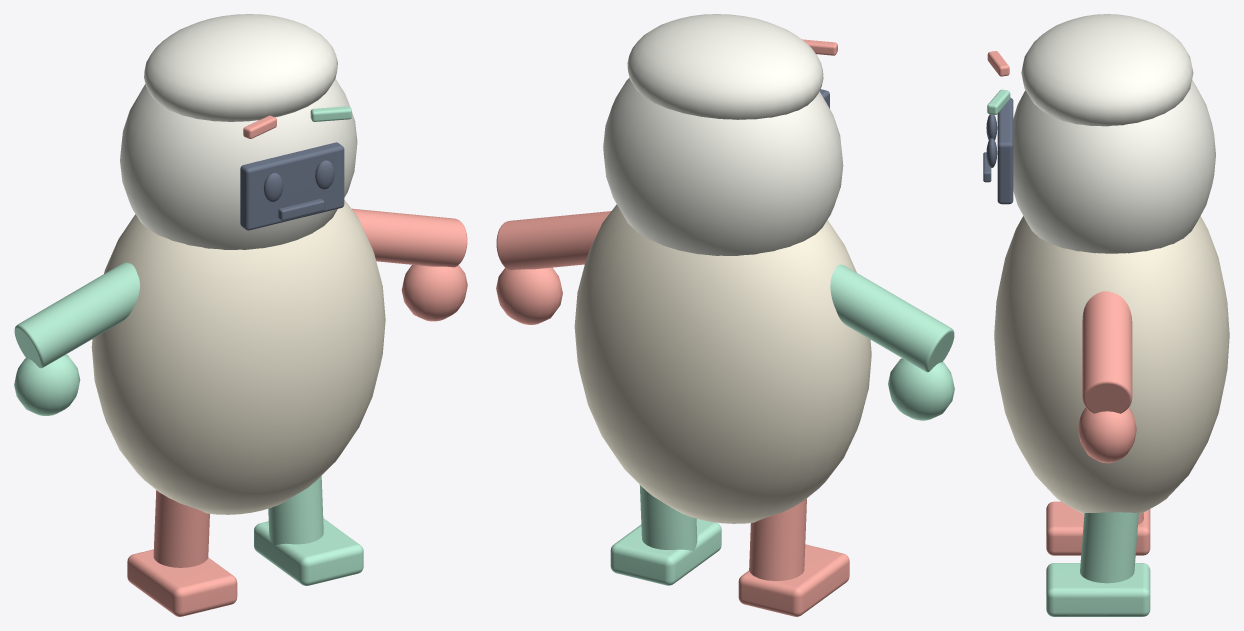
The model's file is character_candy_marshmallow.glb.
3 renders of one model, left to right at view 1: azimuth 30°, elevation 25°; view 2: azimuth 150°, elevation 25°; view 3: azimuth 270°, elevation 25°, orthographic.
Parts seen in each view (by area): view 1: marshmallow_body, cream_head, cream_cap, arm_left_mint, face_badge, arm_right_coral, foot_left_coral, foot_right_mint, leg_left_coral, hand_right_coral, hand_left_mint, leg_right_mint (+1 smaller); view 2: marshmallow_body, cream_head, cream_cap, arm_left_mint, arm_right_coral, foot_left_coral, foot_right_mint, leg_left_coral, hand_right_coral, hand_left_mint, leg_right_mint; view 3: marshmallow_body, cream_head, cream_cap, arm_right_coral, foot_right_mint, leg_right_mint, hand_right_coral, foot_left_coral, face_badge, sprinkle_mint, sprinkle_coral.
Part boxes in pixels (x1=…): marshmallow_body: x1=91, y1=200, x2=385, y2=514; cream_head: x1=120, y1=78, x2=357, y2=249; cream_cap: x1=144, y1=14, x2=337, y2=121; arm_left_mint: x1=14, y1=262, x2=139, y2=368; face_badge: x1=240, y1=142, x2=344, y2=230; arm_right_coral: x1=352, y1=208, x2=467, y2=267; foot_left_coral: x1=127, y1=549, x2=237, y2=616; foot_right_mint: x1=254, y1=518, x2=363, y2=585; leg_left_coral: x1=153, y1=490, x2=209, y2=567; hand_right_coral: x1=401, y1=265, x2=467, y2=321; hand_left_mint: x1=14, y1=354, x2=80, y2=415; leg_right_mint: x1=268, y1=476, x2=323, y2=545; marshmallow_body: x1=574, y1=204, x2=871, y2=523; cream_head: x1=603, y1=78, x2=843, y2=255; cream_cap: x1=627, y1=14, x2=823, y2=119; arm_left_mint: x1=830, y1=264, x2=954, y2=372; arm_right_coral: x1=496, y1=211, x2=611, y2=270; foot_left_coral: x1=738, y1=544, x2=849, y2=616; foot_right_mint: x1=610, y1=519, x2=721, y2=585; leg_left_coral: x1=749, y1=498, x2=806, y2=580; hand_right_coral: x1=496, y1=267, x2=562, y2=324; hand_left_mint: x1=888, y1=358, x2=954, y2=420; leg_right_mint: x1=639, y1=485, x2=697, y2=551; marshmallow_body: x1=994, y1=216, x2=1229, y2=514; cream_head: x1=1013, y1=79, x2=1215, y2=253; cream_cap: x1=1021, y1=14, x2=1193, y2=126; arm_right_coral: x1=1082, y1=291, x2=1132, y2=413; foot_right_mint: x1=1046, y1=563, x2=1150, y2=616; leg_right_mint: x1=1080, y1=512, x2=1138, y2=583; hand_right_coral: x1=1078, y1=407, x2=1136, y2=463; foot_left_coral: x1=1046, y1=501, x2=1150, y2=555; face_badge: x1=997, y1=97, x2=1013, y2=204; sprinkle_mint: x1=987, y1=89, x2=1010, y2=114; sprinkle_coral: x1=987, y1=51, x2=1009, y2=76.
Size of the model in its own units: 1.13 by 1.32 by 0.544.
